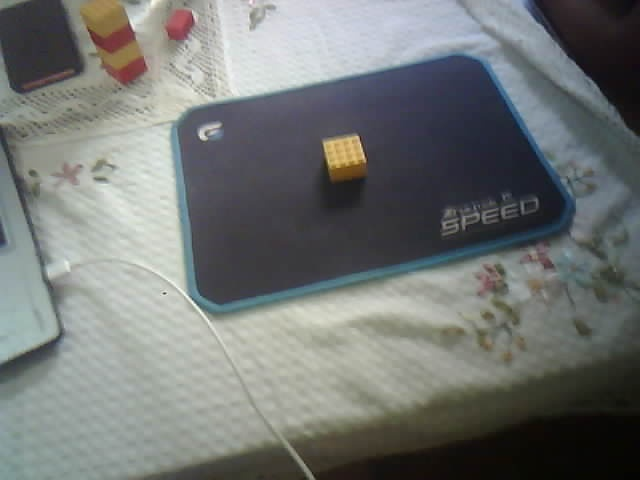lego: (79, 1, 148, 85), (321, 134, 369, 183), (163, 9, 195, 41)
